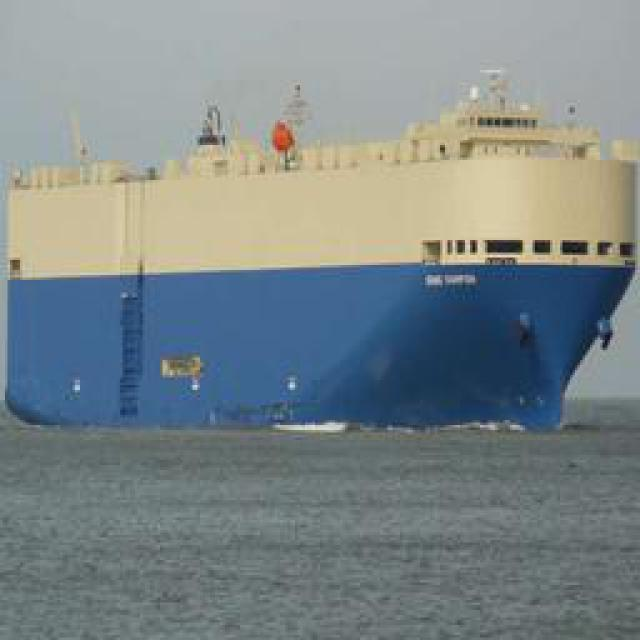Ship: (27, 82, 637, 455)
